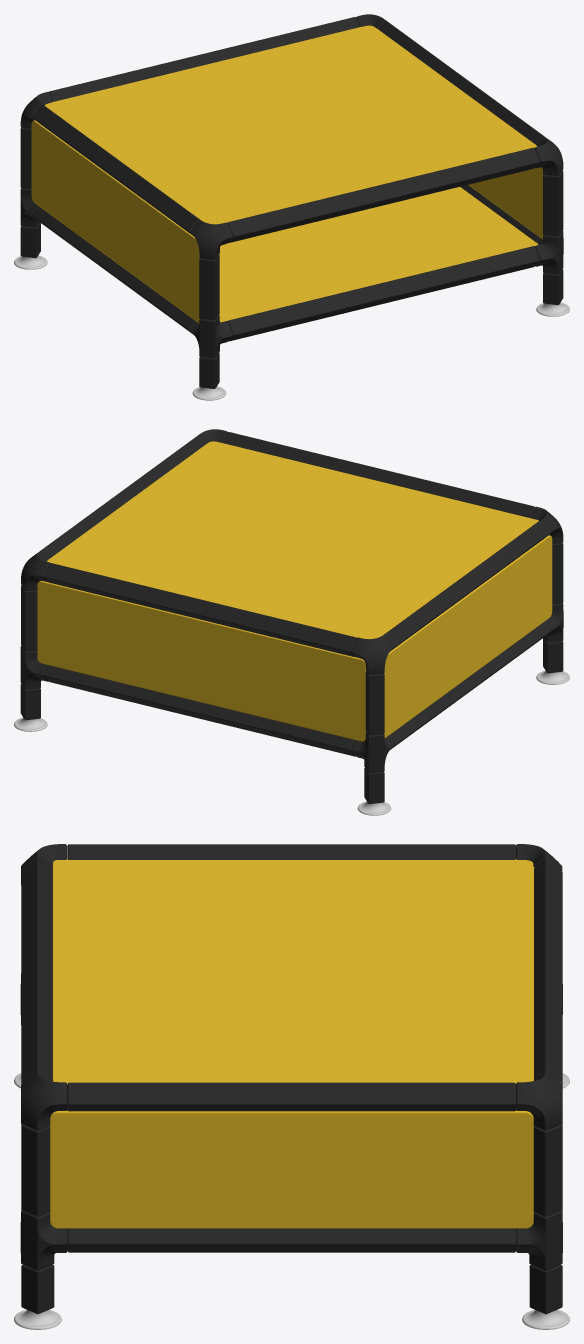
3 renders of one model, top to bottom at view 1: azimuth 30°, elevation 25°; view 2: azimuth 150°, elevation 25°; view 3: azimuth 270°, elevation 25°, orthographic. The views are drawn at different scales.
Parts seen in each view (by area): view 1: 420x374x79; view 2: 420x374x79; view 3: 420x374x79.
Boxes of the visible parts, x1,y1,x2,y2 form: 420x374x79: (14, 14, 569, 400); 420x374x79: (14, 429, 569, 815); 420x374x79: (14, 844, 569, 1329).
Size of the model in its own units: 0.5099 by 0.2183 by 0.4632.
